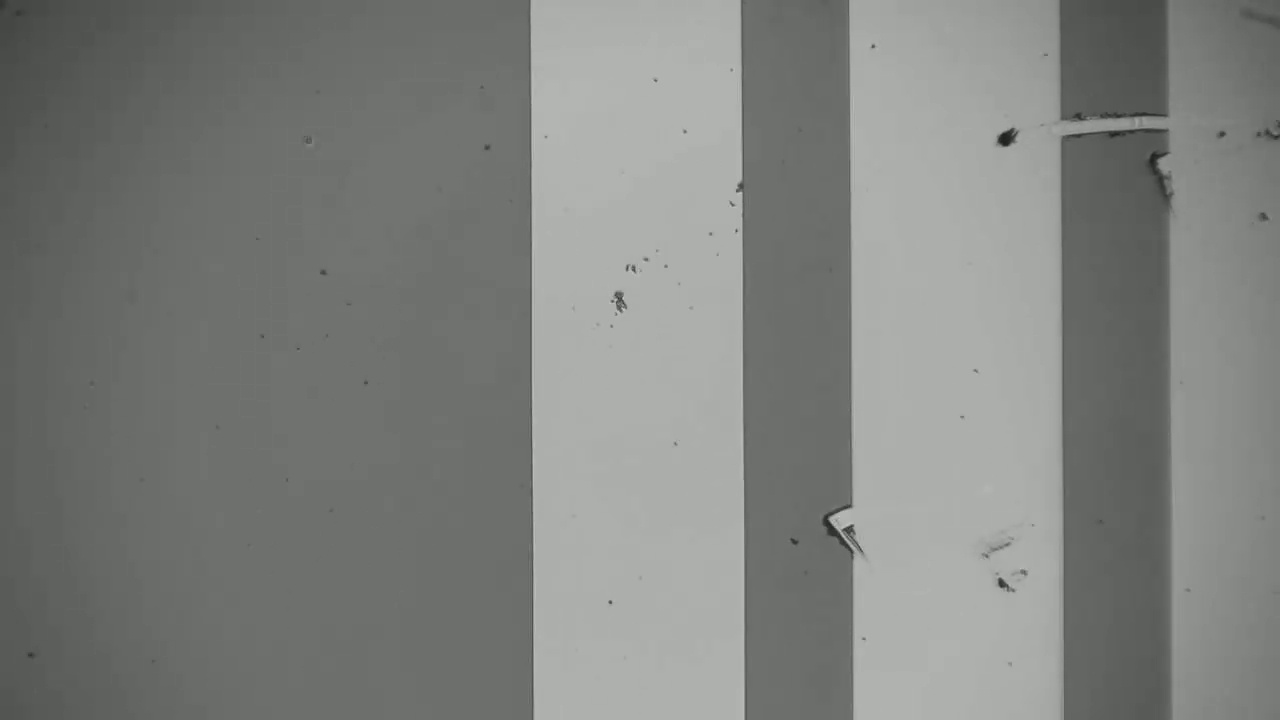Short_circuit: (1039, 92, 1188, 157)
